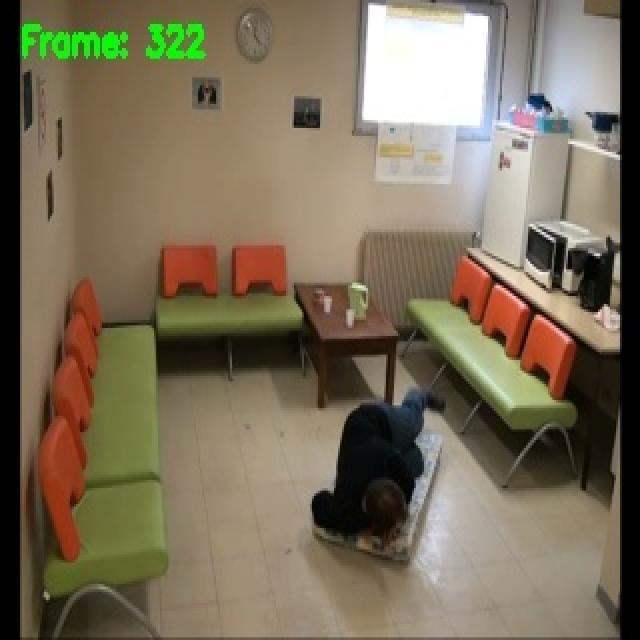fall: (317, 382, 452, 552)
